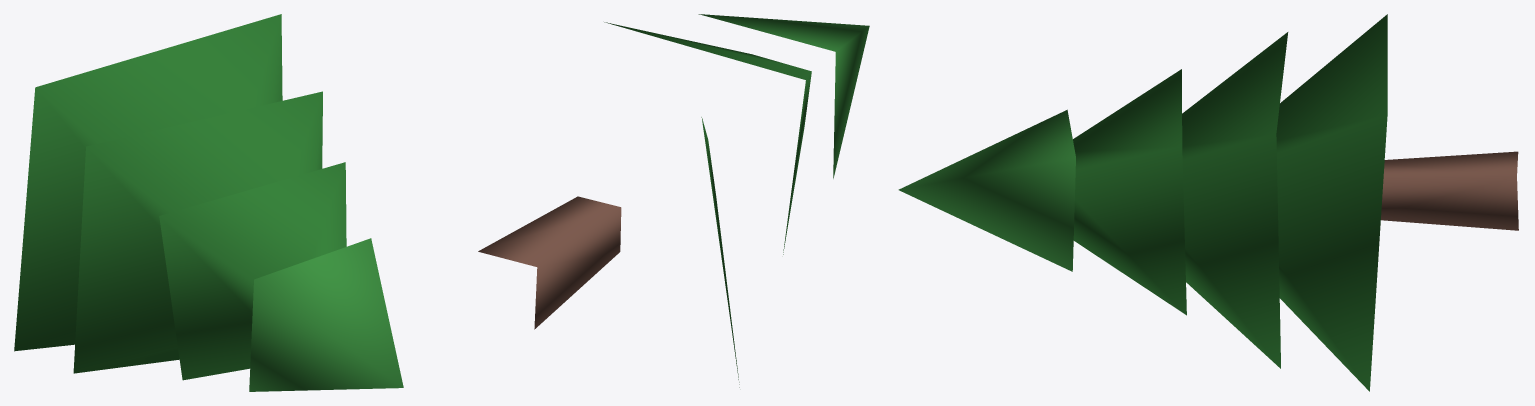
File: pine.glb
3 renders of one model, left to right at view 1: azimuth 30°, elevation 25°; view 2: azimuth 150°, elevation 25°; view 3: azimuth 270°, elevation 25°, orthographic. The views are drawn at different scales.
Visible parts, largest first — view 1: Cube; view 2: Cube; view 3: Cube.
Part boxes in pixels (box(x1,y1,x2,y2)): Cube: box(14, 14, 403, 391); Cube: box(478, 14, 869, 387); Cube: box(898, 14, 1518, 391).
Bounding box in the file's own units: 8.79 × 9.15 × 18.41.
1 material, 1 textured.
